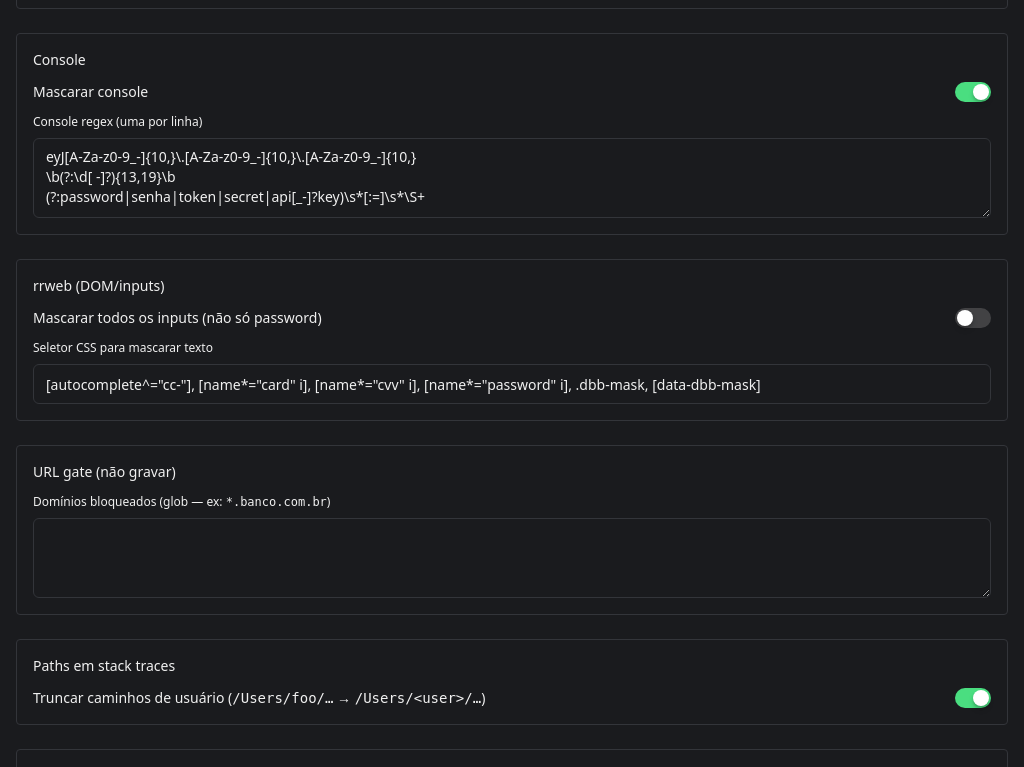
PrivacySettingsPage › salva edição via setPrivacyConfig
(page scrolled)
Replace the text in the field labelled "Seletor CSS para mascarar texto" with ".new-mask" at (512, 384), box [33,364,991,404]
(page scrolled)
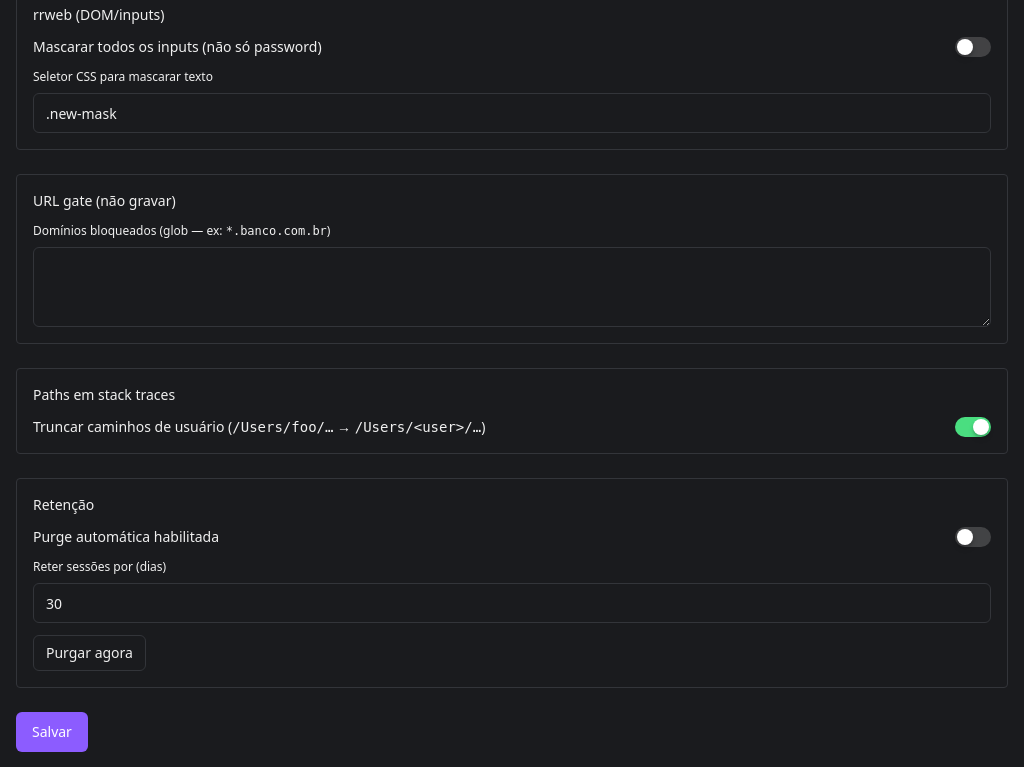
Click the button "Salvar".
click(52, 732)  # box [16,712,88,752]
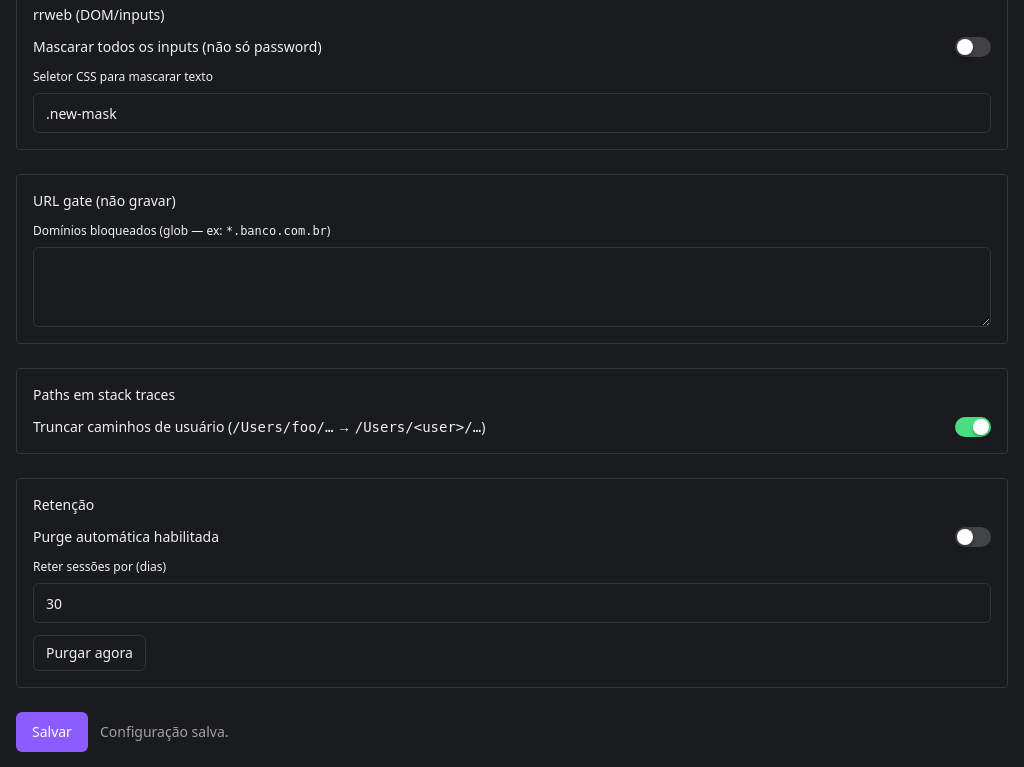
Expected: the text "Configuração salva." is shown, [100,722,228,742]
